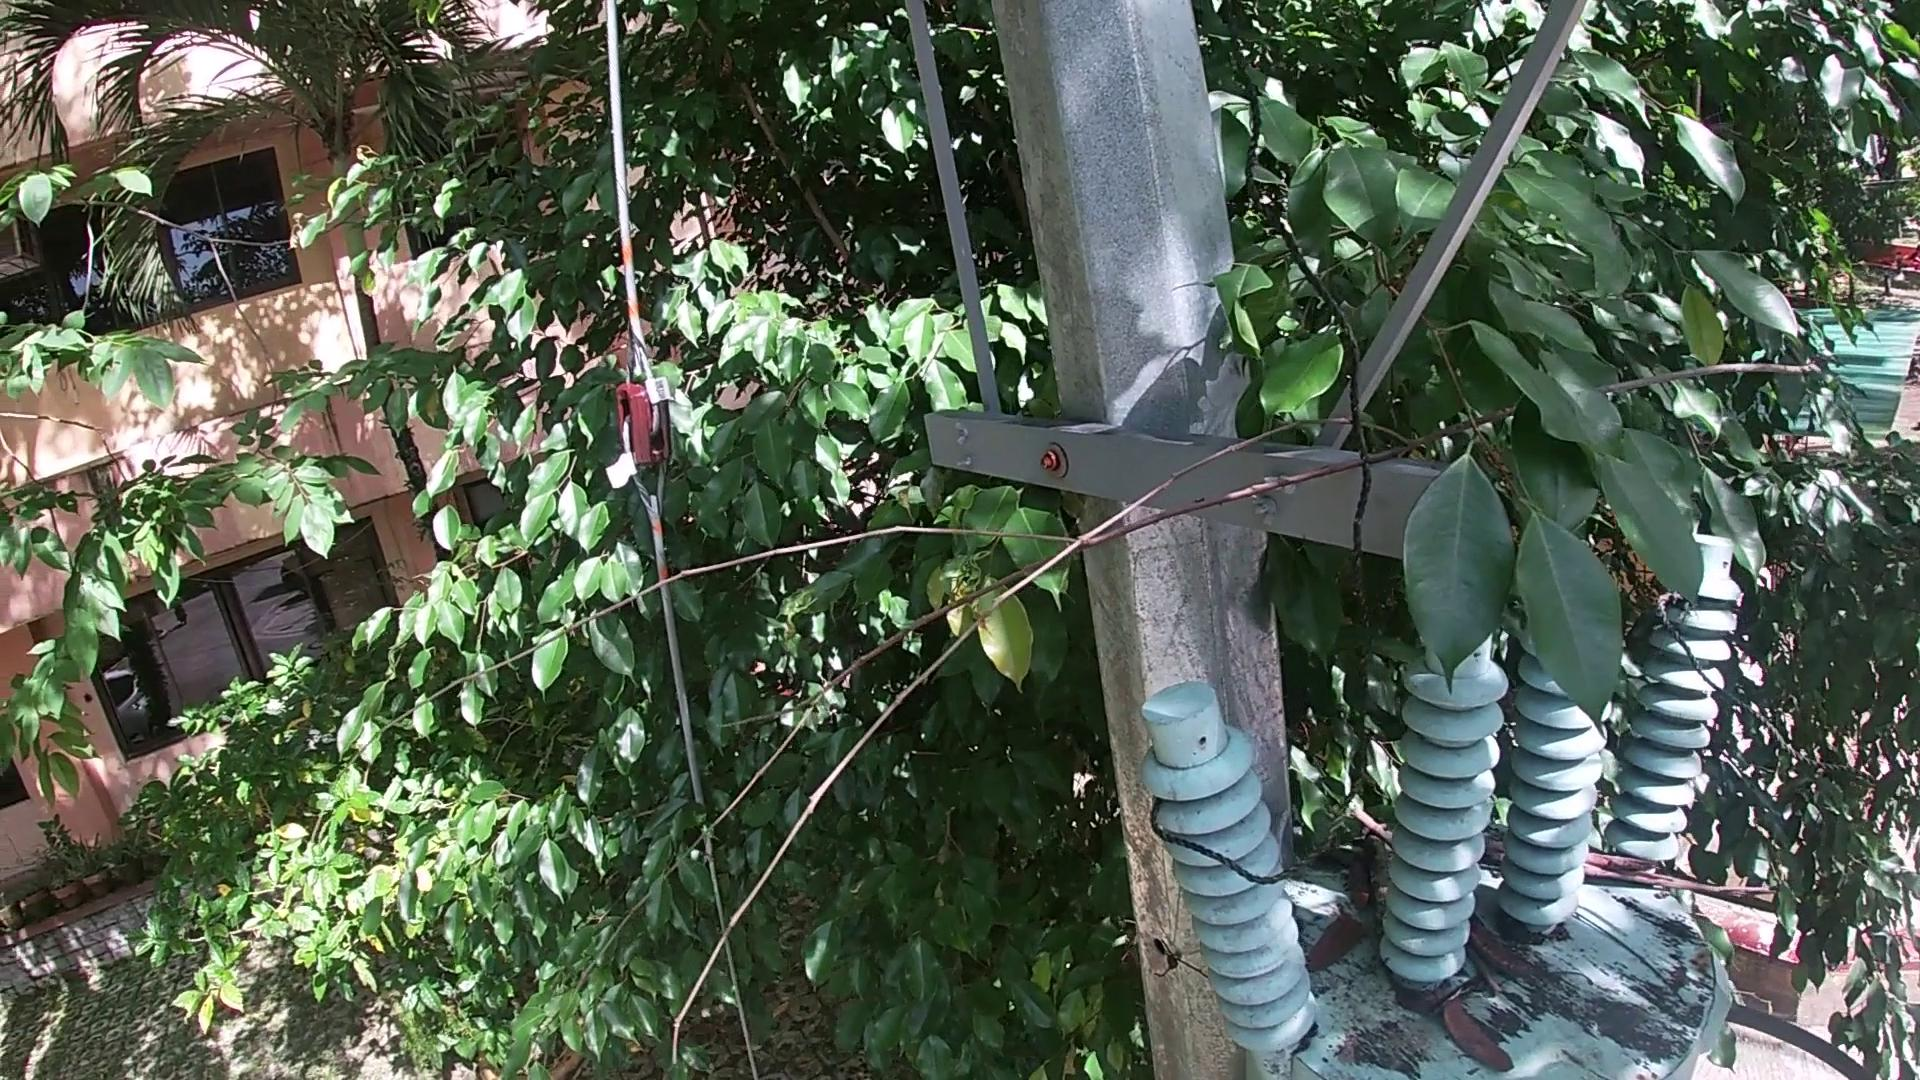leaf: (1395, 988, 1447, 1023)
mahogany fruit: (1447, 1001, 1520, 1069), (1472, 916, 1540, 981)
tree branch: (290, 313, 1871, 1068), (1582, 848, 1811, 909), (1578, 914, 1702, 1021), (1364, 836, 1395, 949), (1309, 913, 1356, 980), (1526, 968, 1600, 996), (1474, 953, 1511, 997), (1340, 814, 1393, 837)
